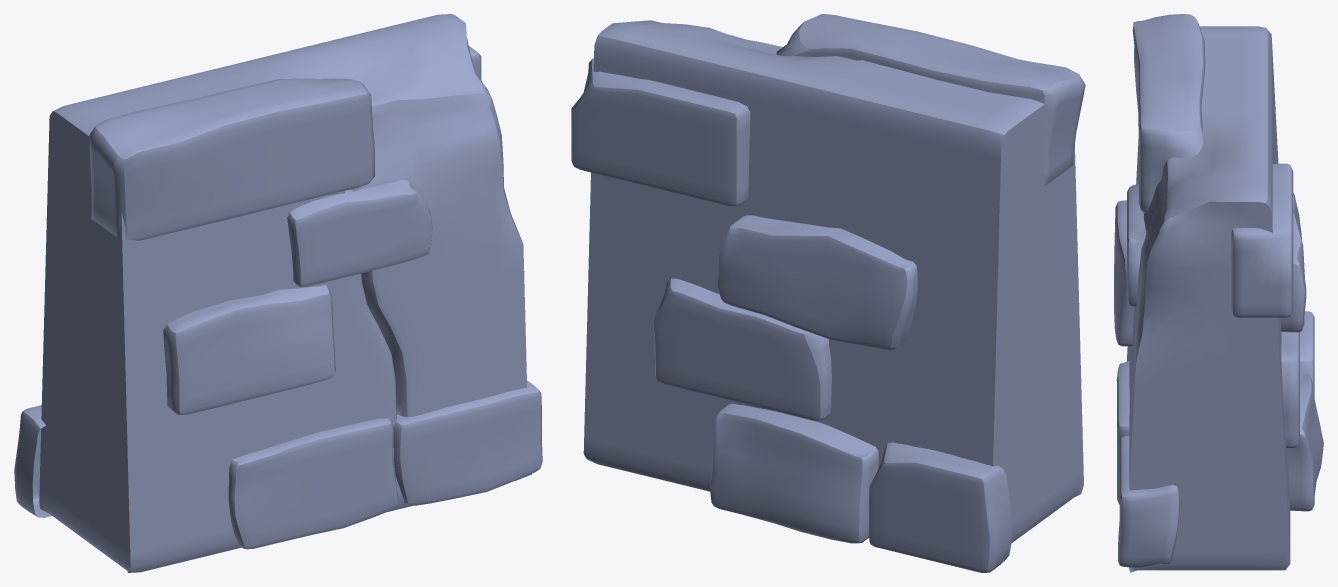
File: Wall_S_2.fbx
3 renders of one model, left to right at view 1: azimuth 30°, elevation 25°; view 2: azimuth 150°, elevation 25°; view 3: azimuth 270°, elevation 25°, orthographic. The views are drawn at different scales.
Visible parts, largest first — view 1: wall_S_B; view 2: wall_S_B; view 3: wall_S_B.
Part boxes in pixels (x1,y1,x2,y2): wall_S_B: (14, 14, 542, 572); wall_S_B: (571, 14, 1085, 572); wall_S_B: (1114, 14, 1323, 572).
Bounding box in the file's own units: 0.5422 × 0.5167 × 0.2525.
